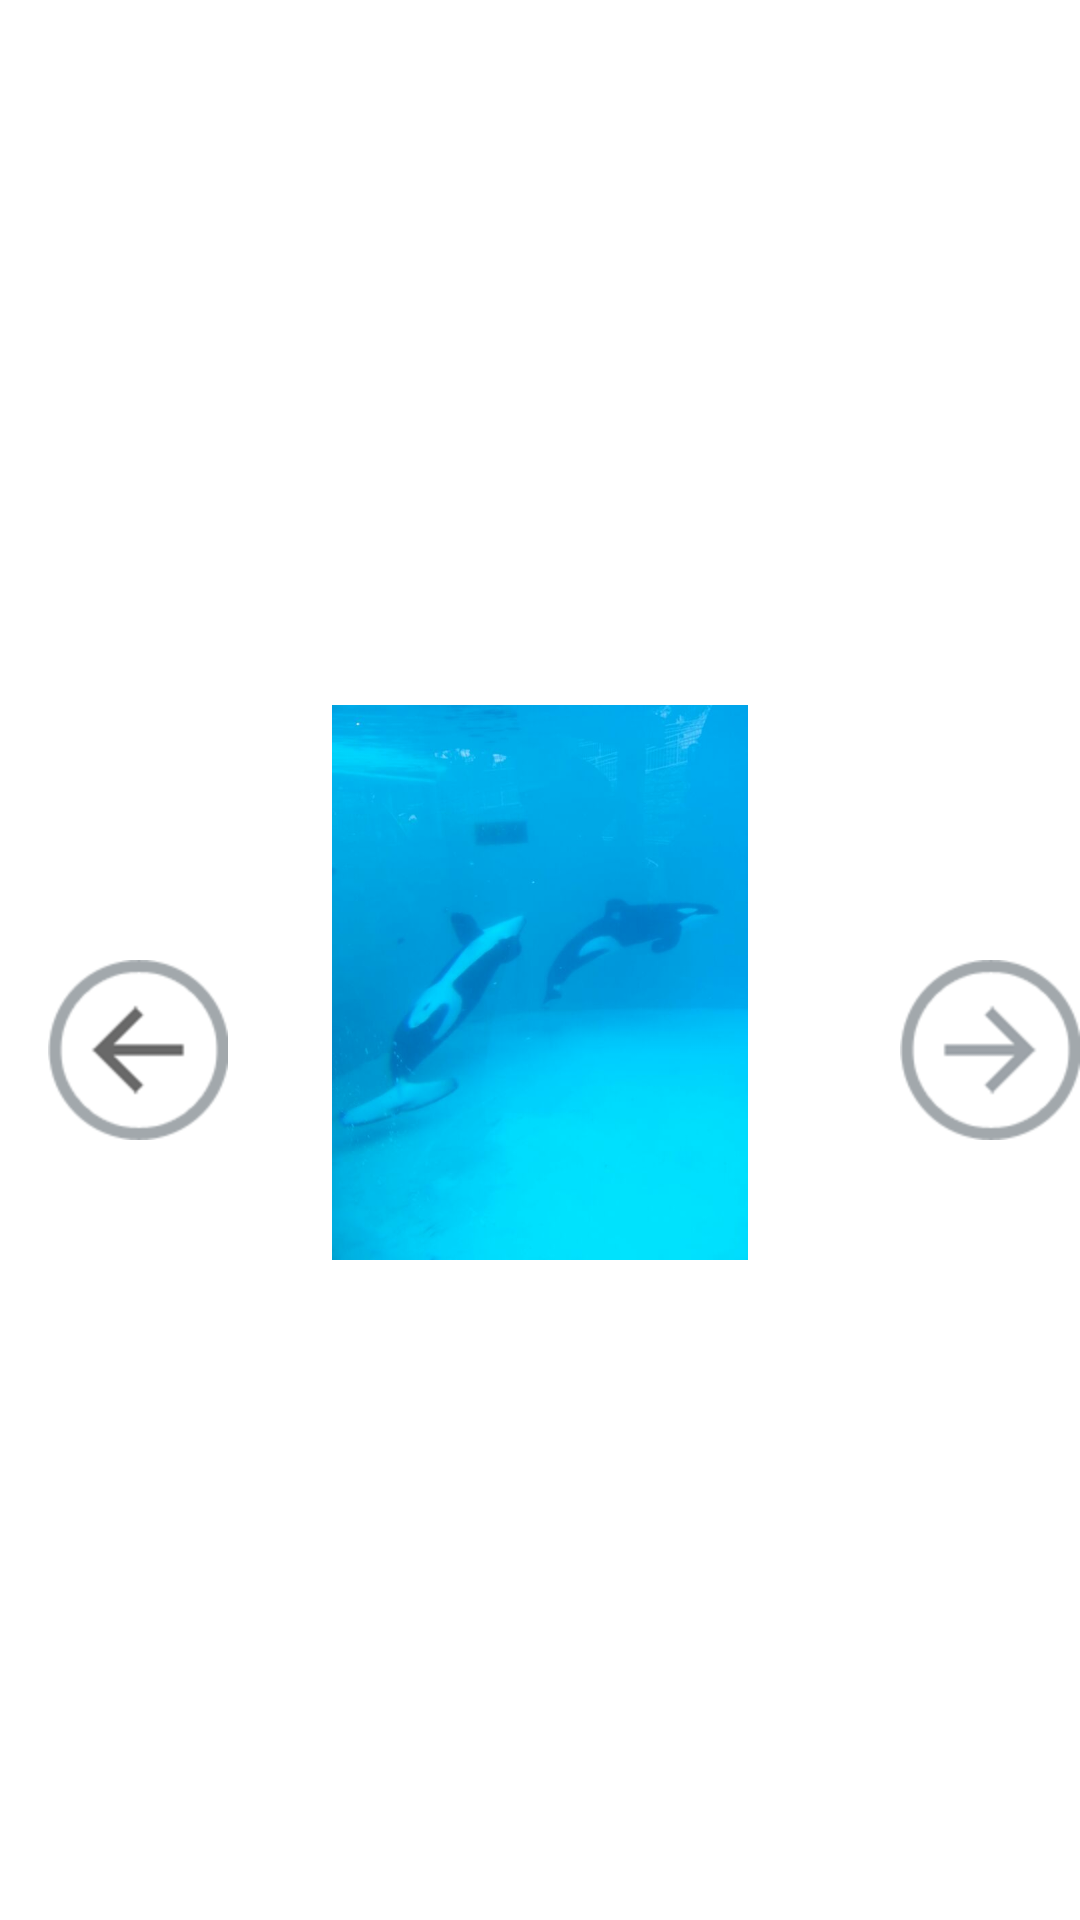

Named icons in this screenshot (1080x1920) and their centers, (x=x, y=y):
arrowleft: (x=138, y=1050)
arrowright: (x=990, y=1050)
